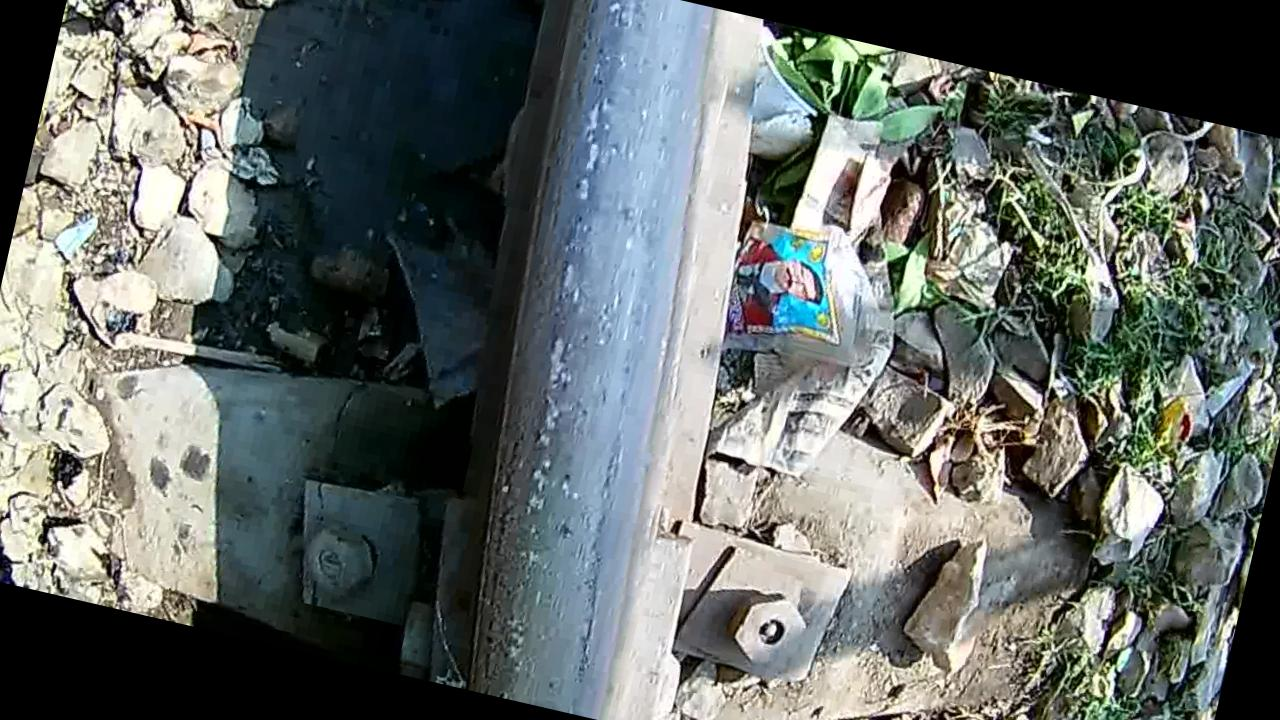clip_missing: (417, 0, 750, 717)
